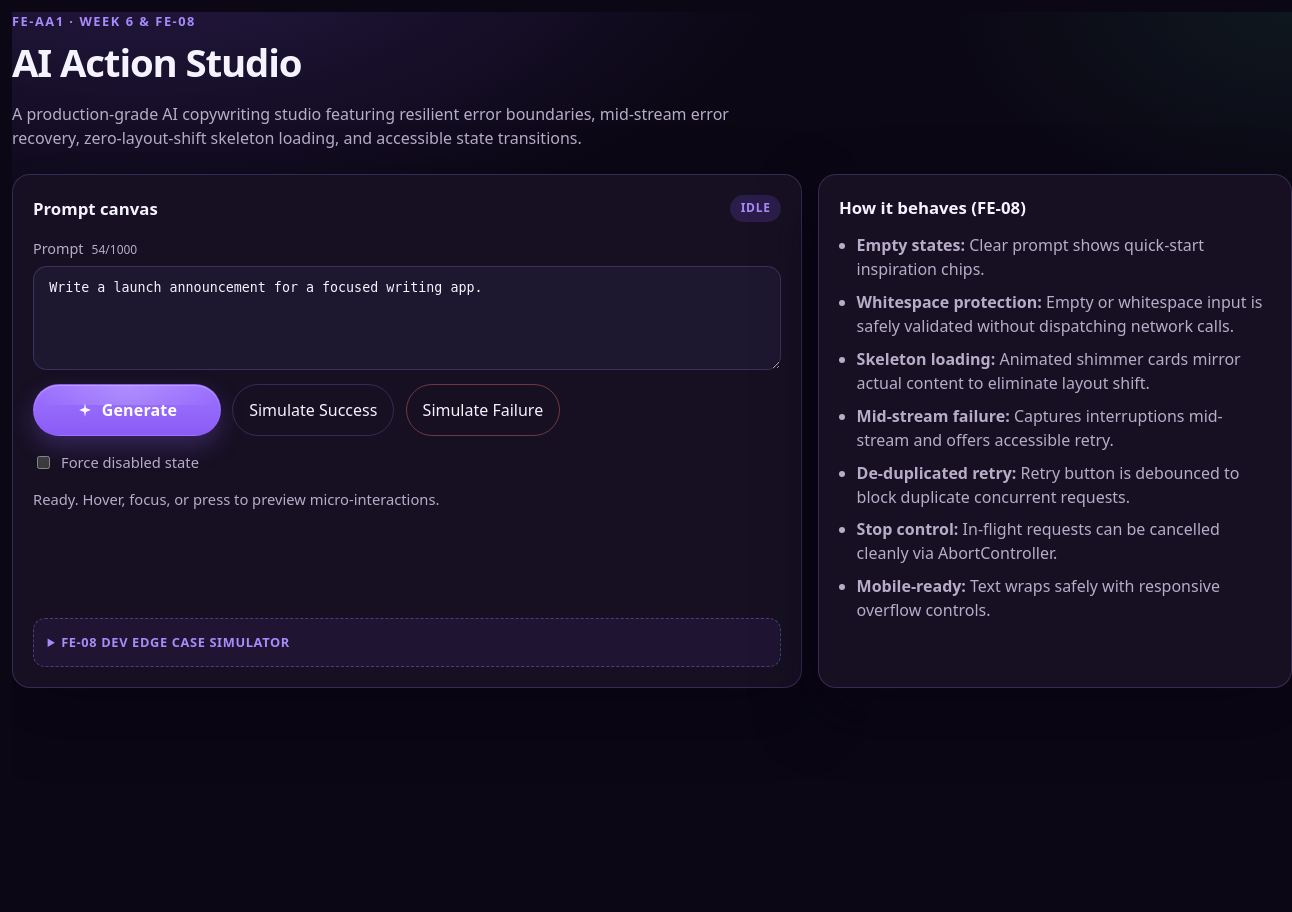
Scenario: ActionStudio › populates prompt textarea when an example chip is clicked
The image size is (1292, 912).
Clear the text box: (407, 318) x1=33 y1=266 x2=781 y2=370
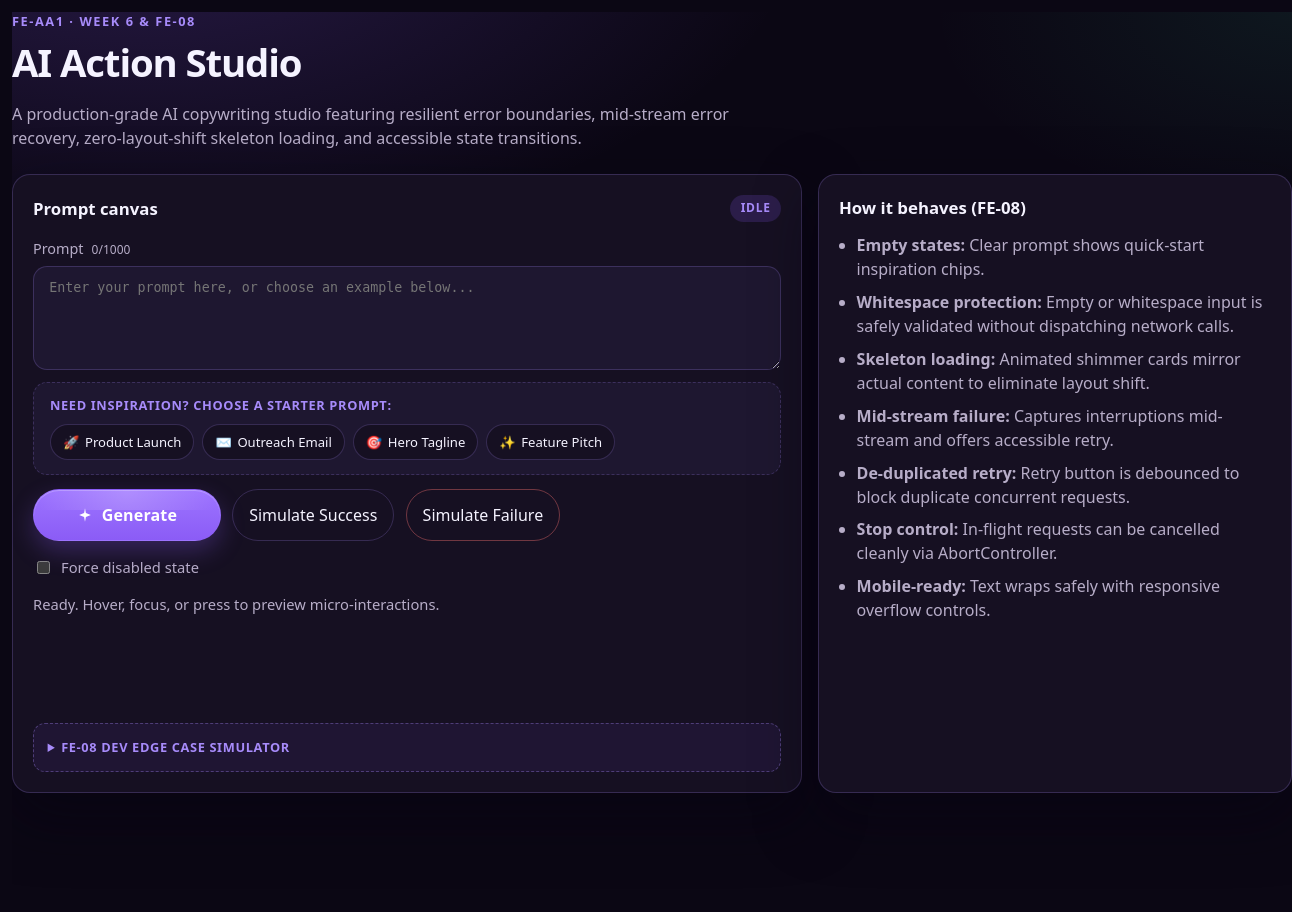
Click the button "🚀 Product Launch": (122, 442) x1=50 y1=424 x2=194 y2=460
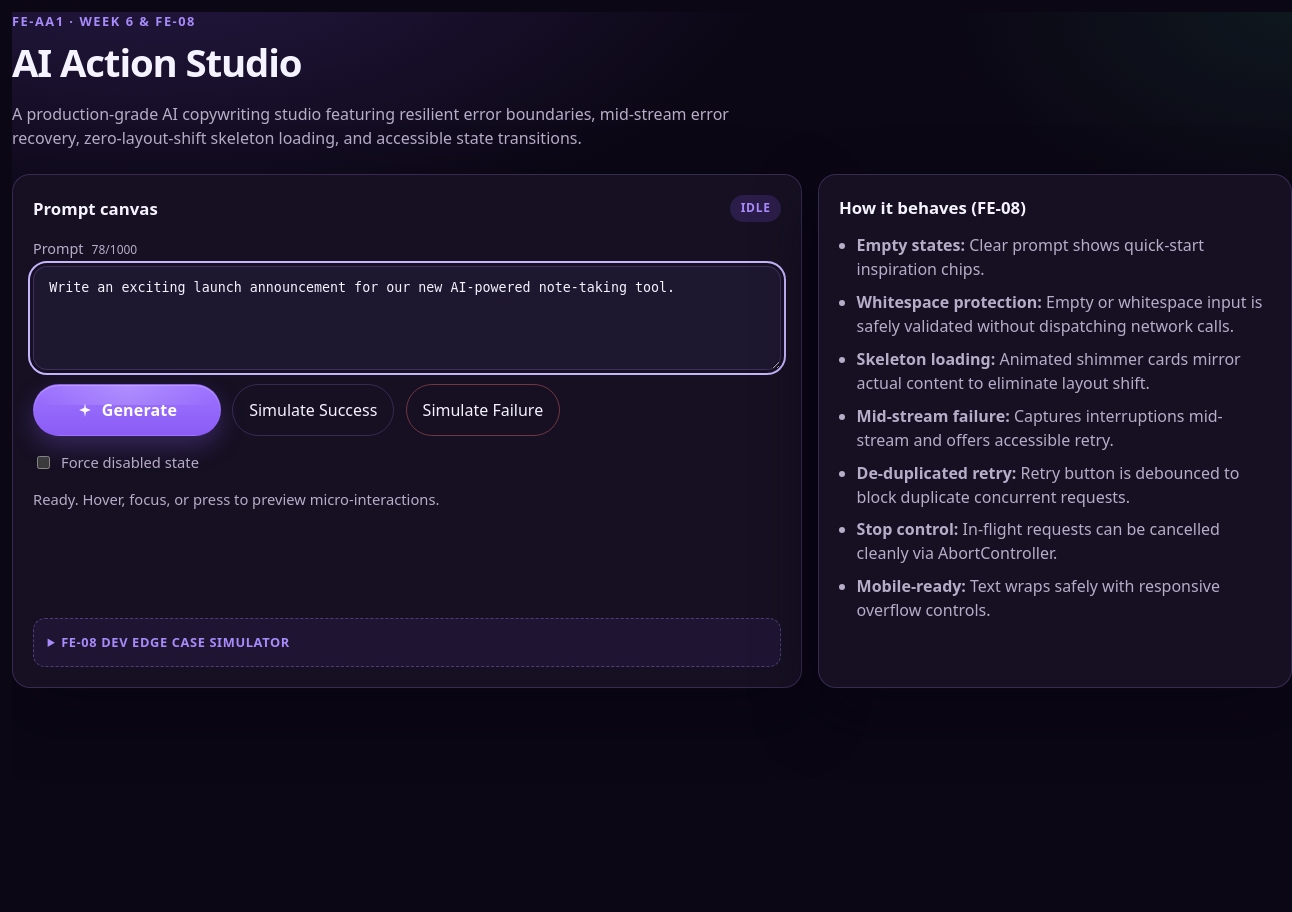
Result: the text box holds "Write an exciting launch announcement for our new AI-powered note-taking tool." at x1=33 y1=266 x2=781 y2=370
